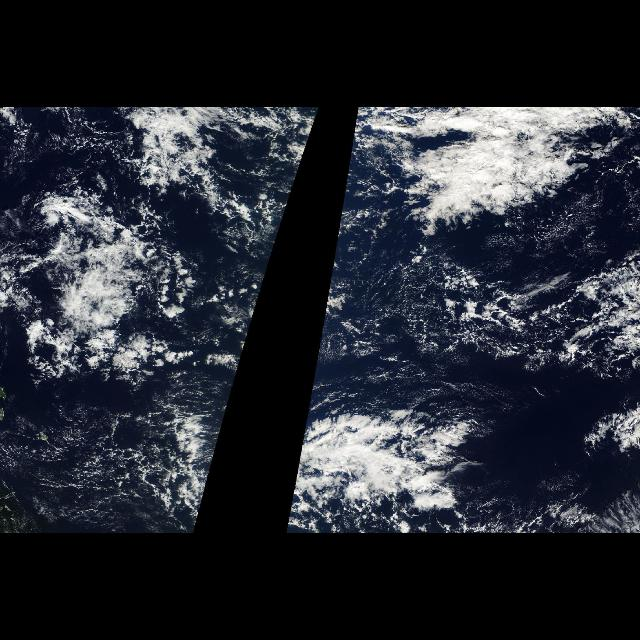Fish: (16, 107, 232, 533), (286, 391, 508, 534)
Gravel: (370, 246, 640, 390)
